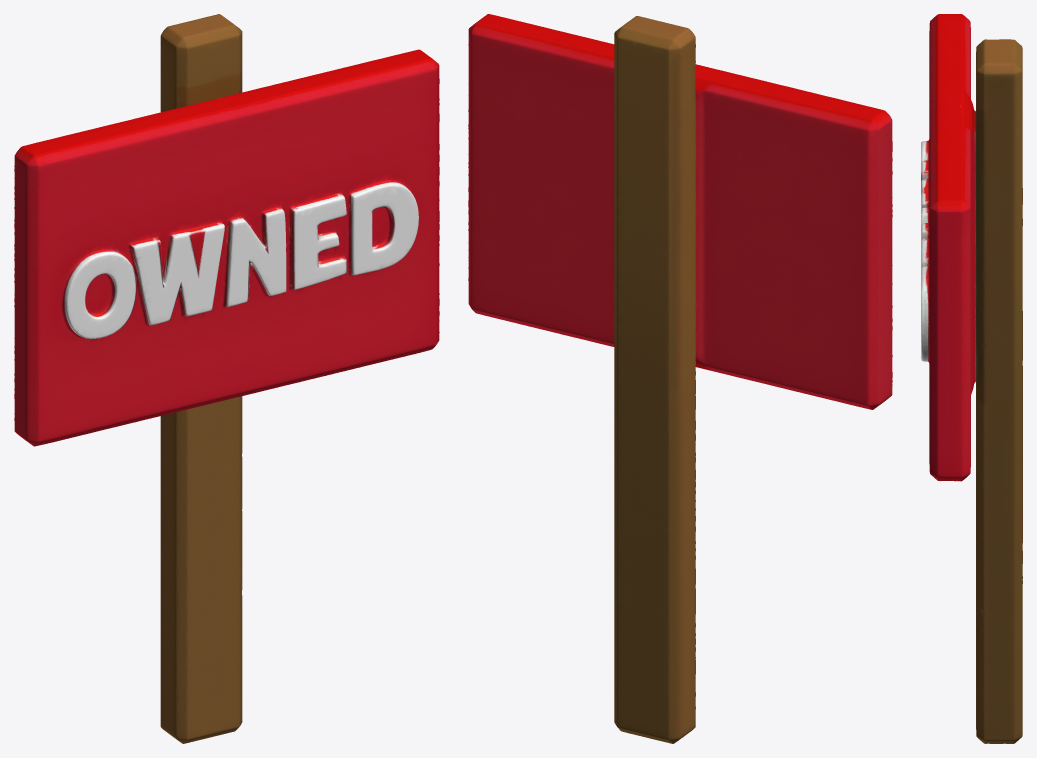
File: owned_red_sign.glb
The picture shows the model from 3 angles, left to right: view 1: azimuth 30°, elevation 25°; view 2: azimuth 150°, elevation 25°; view 3: azimuth 270°, elevation 25°; orthographic projection. The views are drawn at different scales.
Bounding box in the file's own units: 1.16 × 1.9 × 0.2571.
1 material, 1 textured.
